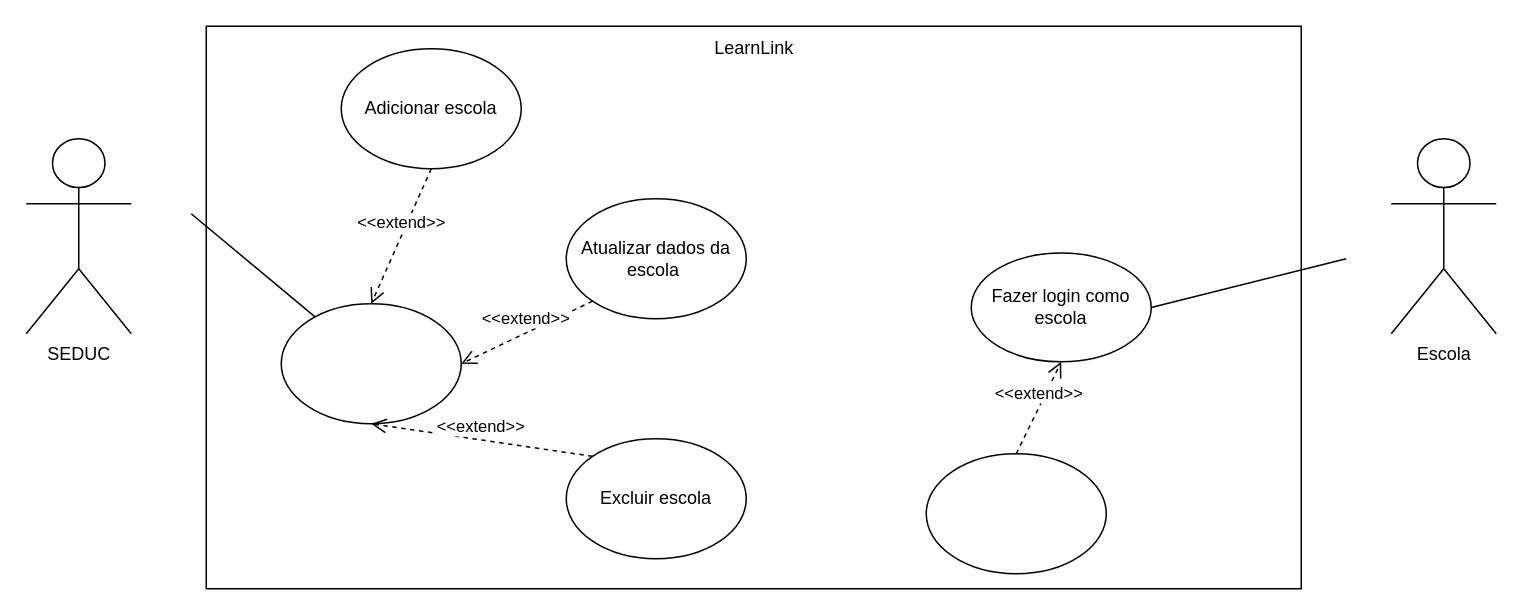
Image size: 1523x615. Some labels were removed from this diagram. Each missing label, with the centre of its shape:
"Acessar dados da escola" belongs at pixel 1015 513.
"Fazer login como administrador" belongs at pixel 370 363.
